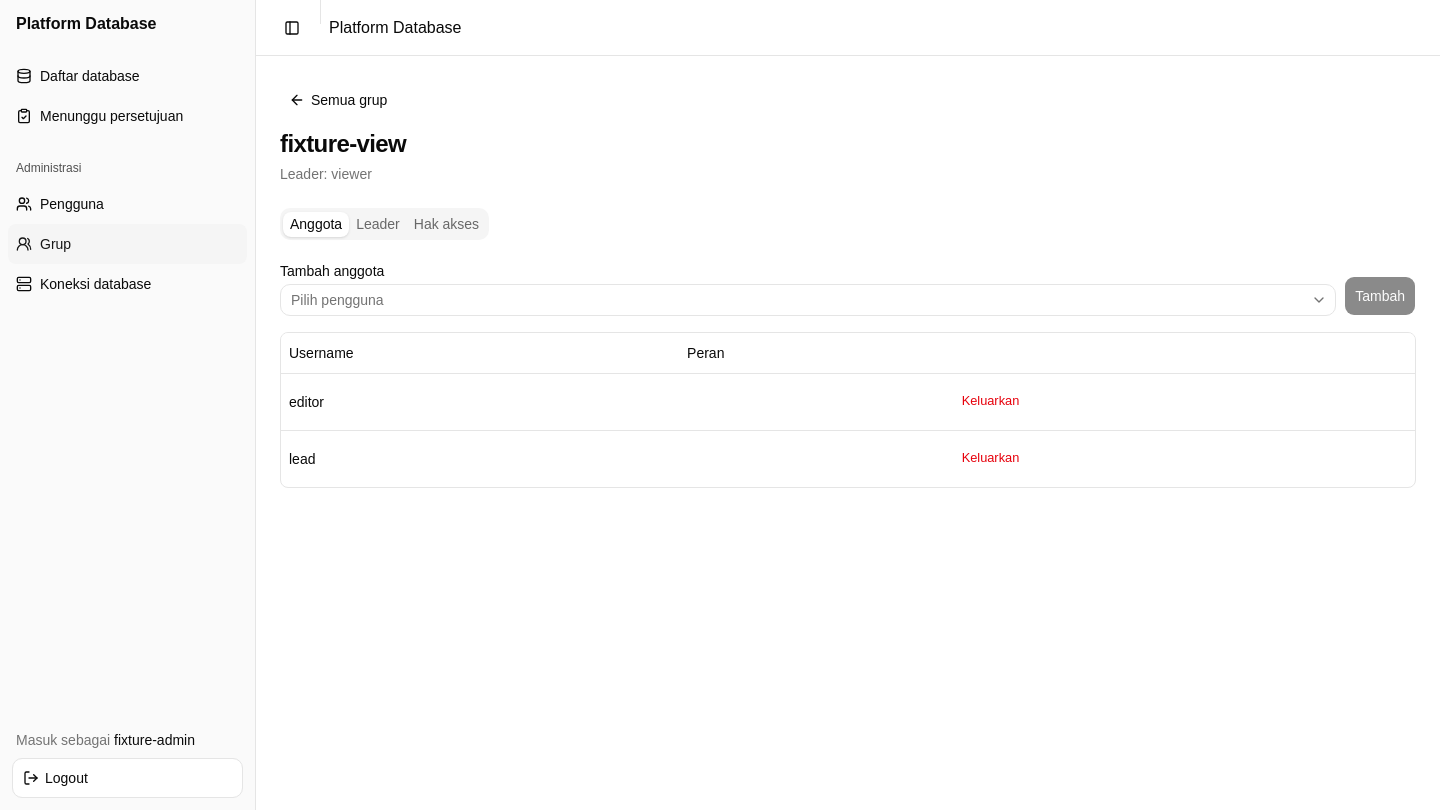
Scenario: group administration › keeps the open tab in the URL
The image size is (1440, 810).
What coordinates should you click on to do the following:
click the tab "Hak akses"
I would click on:
 (446, 224)
Its box is [407,212,486,236].
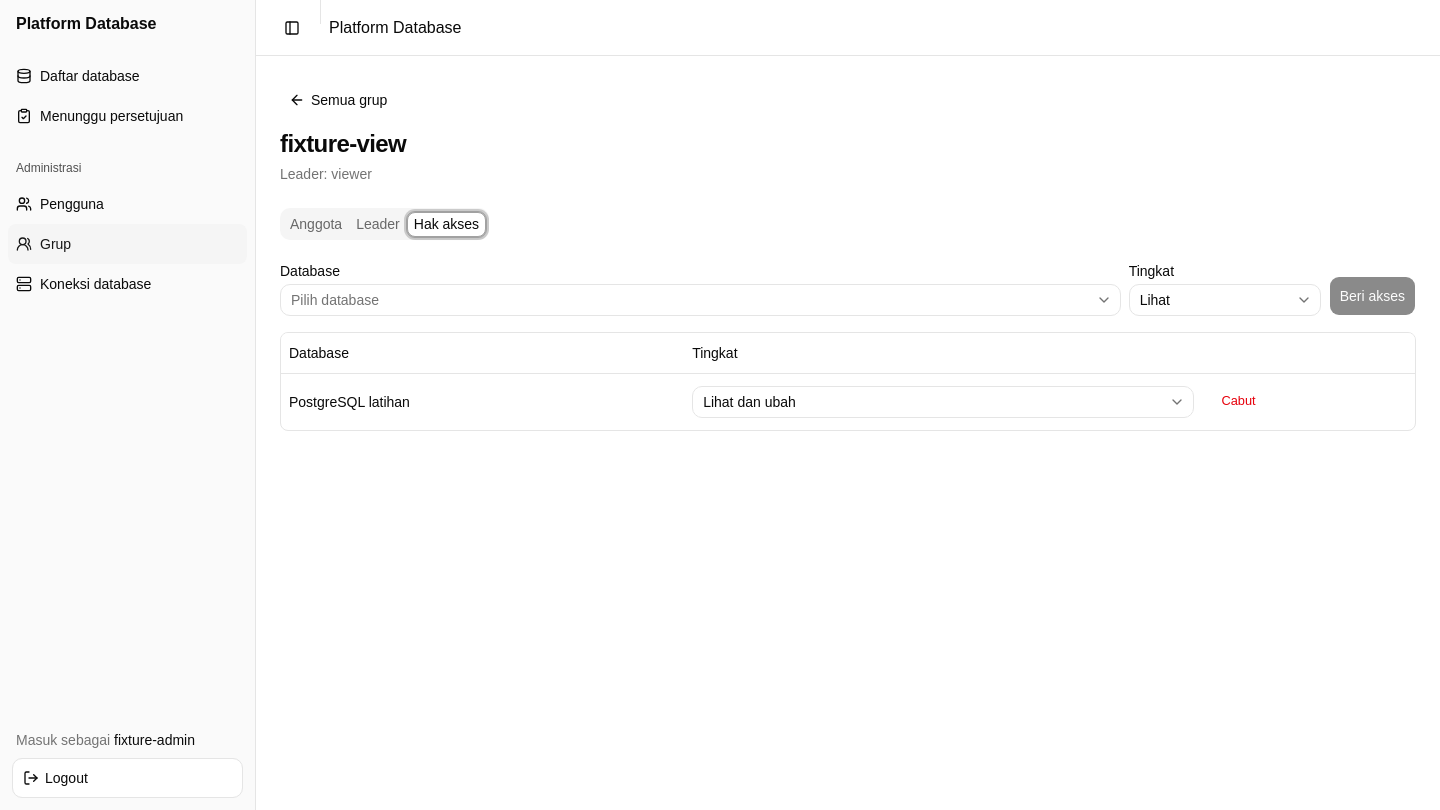
expect the text "PostgreSQL latihan" is shown: met, box [289,394,410,410]
